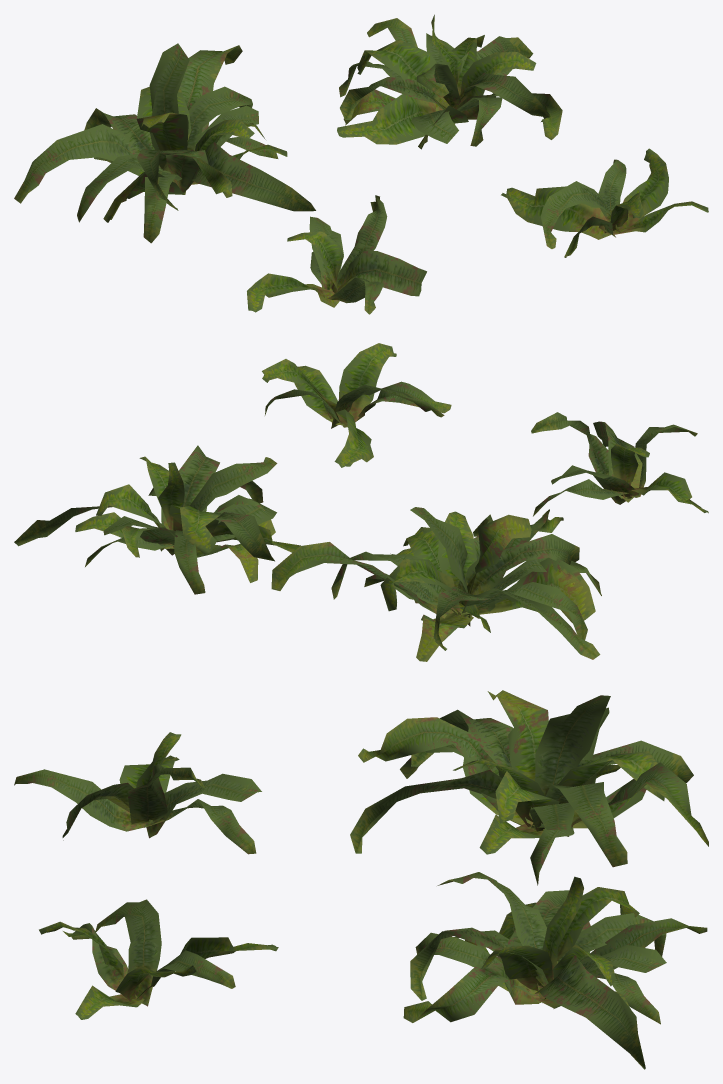
Rendered from fern.glb.
The picture shows the model from 3 angles, top to bottom: view 1: azimuth 30°, elevation 25°; view 2: azimuth 150°, elevation 25°; view 3: azimuth 270°, elevation 25°; orthographic projection. The views are drawn at different scales.
Visible parts, largest first — view 1: fern_02_b, fern_02_c, fern_02_d, fern_02_a; view 2: fern_02_b, fern_02_c, fern_02_d, fern_02_a; view 3: fern_02_b, fern_02_c, fern_02_a, fern_02_d.
Part boxes in pixels (box(x1,y1,x2,y2)): fern_02_b: box(14, 43, 315, 243); fern_02_c: box(337, 14, 562, 149); fern_02_d: box(501, 148, 708, 257); fern_02_a: box(247, 195, 426, 314); fern_02_b: box(271, 507, 601, 661); fern_02_c: box(14, 445, 300, 594); fern_02_d: box(262, 343, 451, 467); fern_02_a: box(531, 412, 708, 516); fern_02_b: box(350, 690, 708, 885); fern_02_c: box(403, 872, 707, 1069); fern_02_a: box(14, 732, 261, 854); fern_02_d: box(39, 899, 278, 1019).
Bounding box in the file's own units: 1.96 × 0.4277 × 1.72.
Materials: 1 (1 with a texture image).
